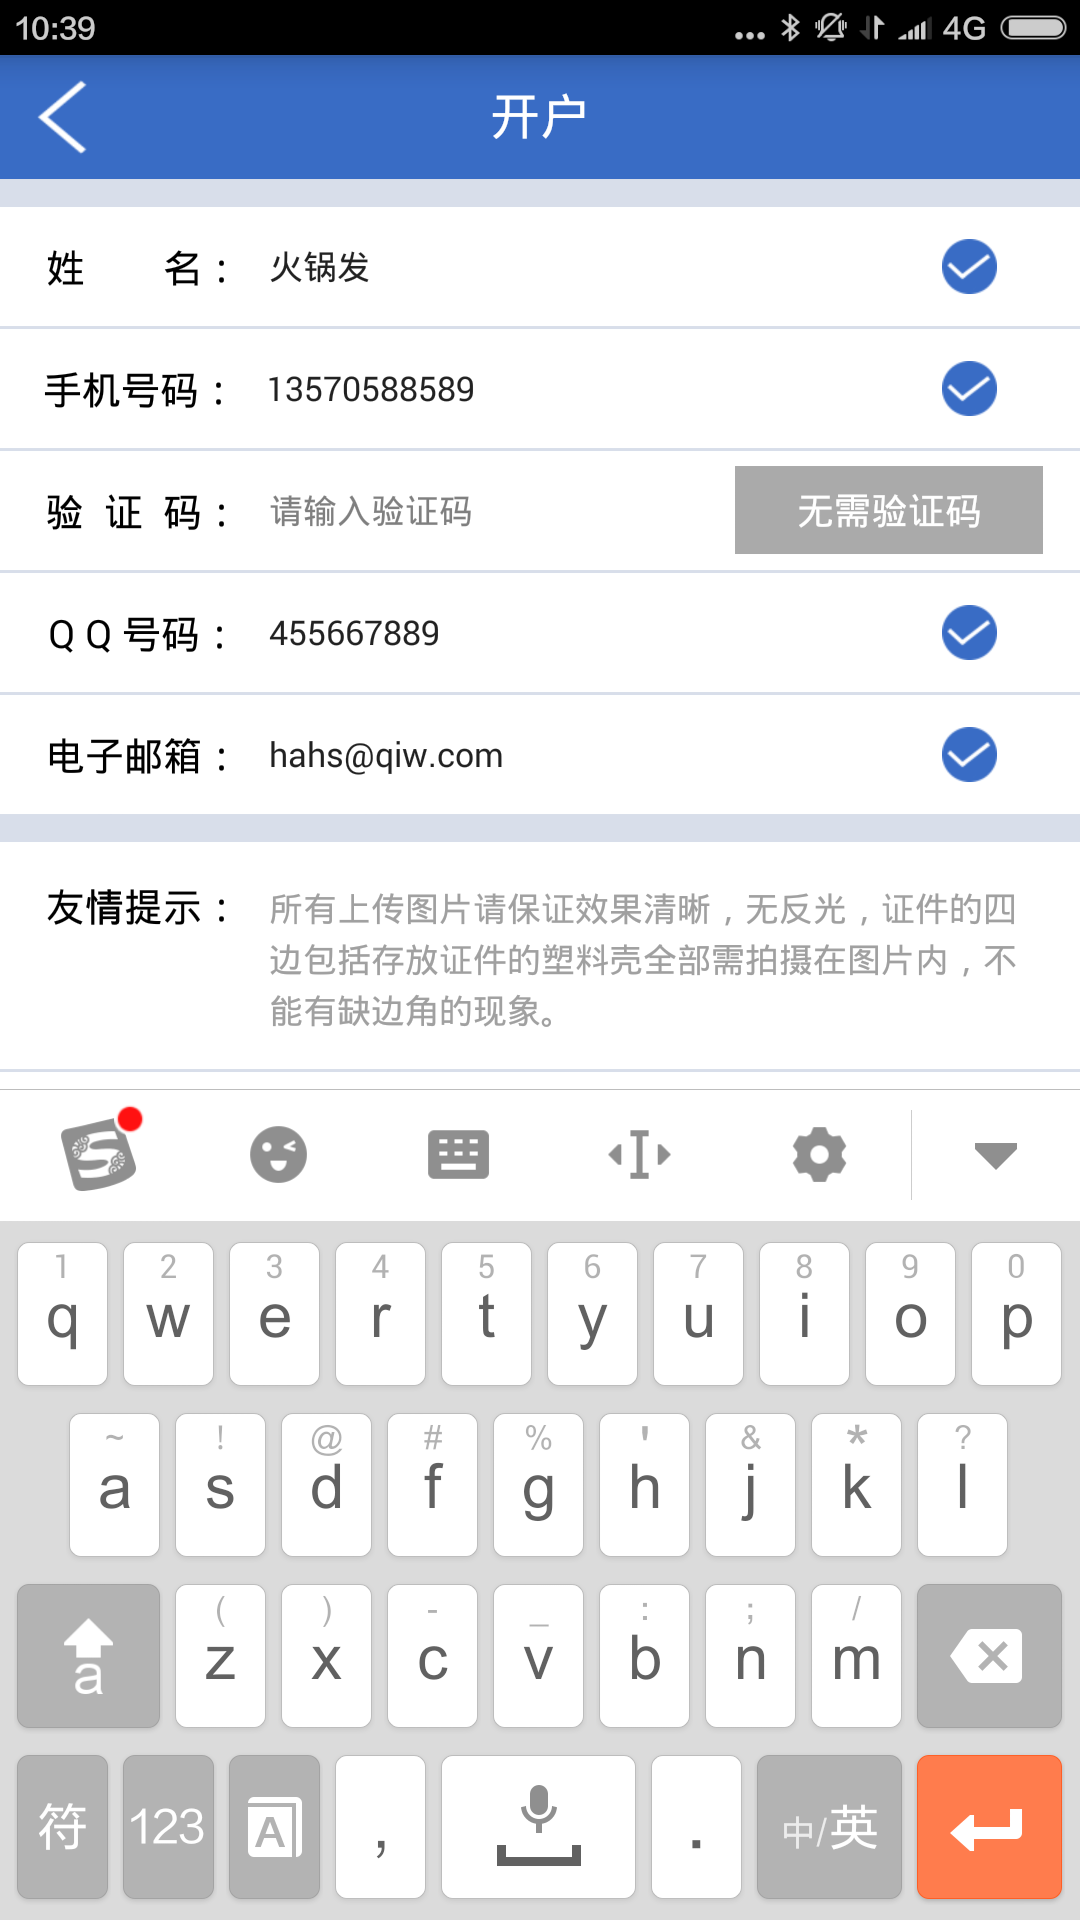textview: (1, 196, 1080, 829)
